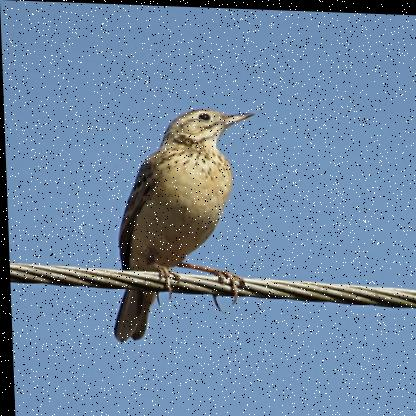Burung: (99, 104, 260, 348)
